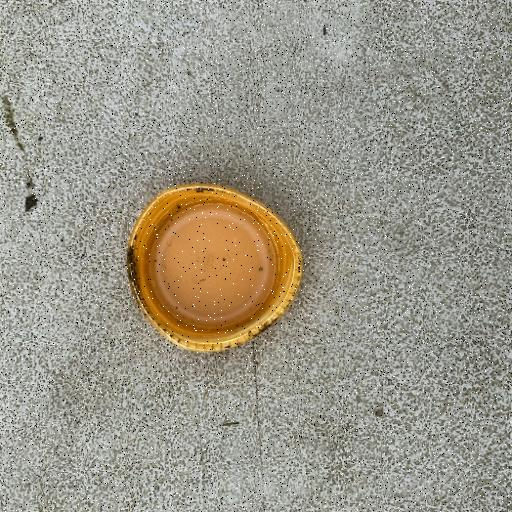Plastic: (125, 182, 304, 354)
